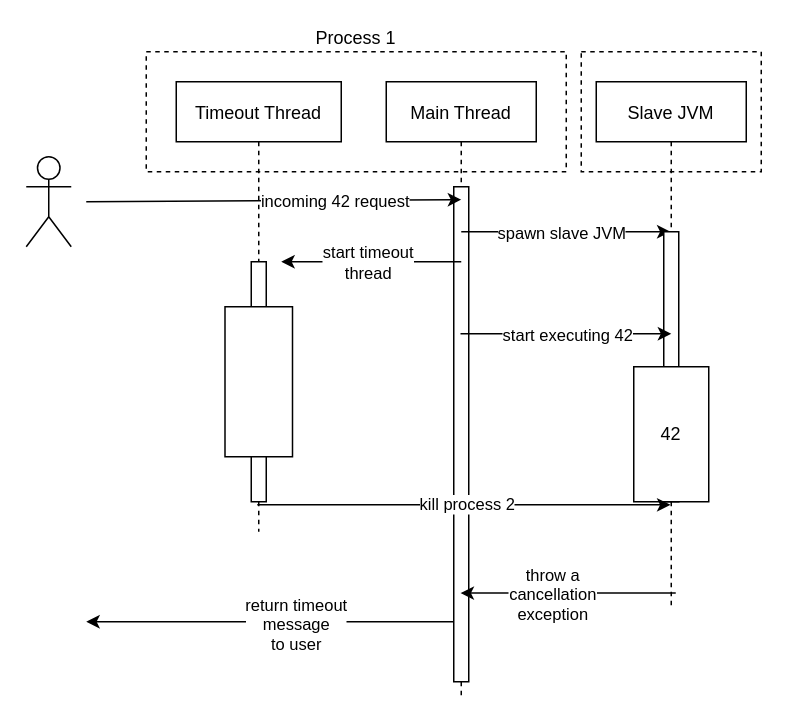
The diagram is 788 pixels wide and 723 high, and some of its shapes have lost their labels. Each missing label, with the centre of its shape:
Process 2: the point at 670,111
Sleep for 30 seconds: the point at 258,381
User: the point at 48,201
